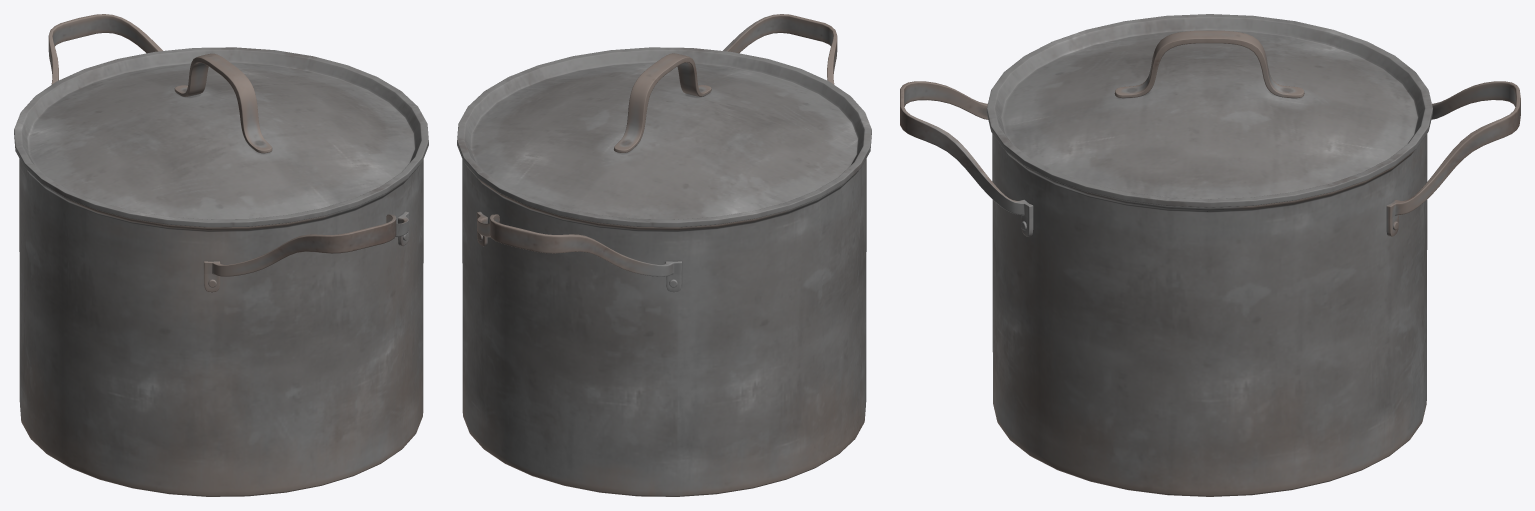
The model's file is SM_PAD_KitchenwareSet_Pot01_c1_LOD1.fbx.
The picture shows the model from 3 angles, left to right: view 1: azimuth 30°, elevation 25°; view 2: azimuth 150°, elevation 25°; view 3: azimuth 270°, elevation 25°; orthographic projection. The views are drawn at different scales.
Parts seen in each view (by area): view 1: SM_PAD_KitchenwareSet_Pot01_c1_LOD1_LOD0; view 2: SM_PAD_KitchenwareSet_Pot01_c1_LOD1_LOD0; view 3: SM_PAD_KitchenwareSet_Pot01_c1_LOD1_LOD0.
Boxes of the visible parts, x1,y1,x2,y2 form: SM_PAD_KitchenwareSet_Pot01_c1_LOD1_LOD0: (14, 14, 428, 496); SM_PAD_KitchenwareSet_Pot01_c1_LOD1_LOD0: (457, 14, 871, 496); SM_PAD_KitchenwareSet_Pot01_c1_LOD1_LOD0: (900, 14, 1520, 496).
Bounding box in the file's own units: 28.6 × 39.79 × 26.85.
